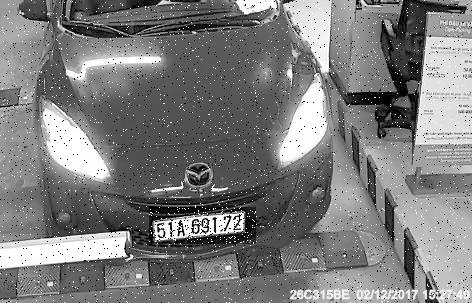License-plate: (151, 208, 259, 245)
